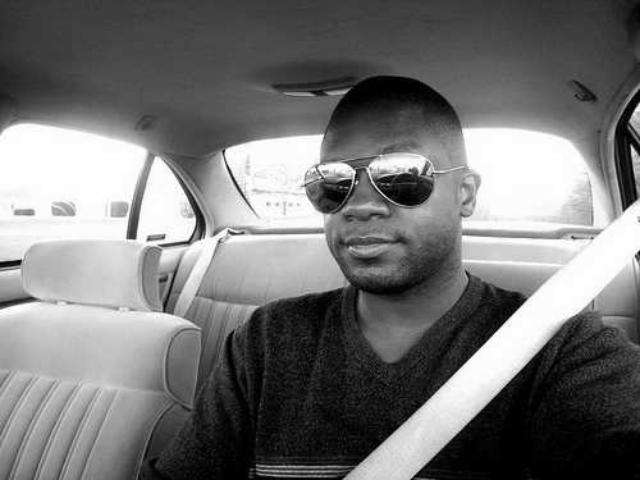Seatbelt: (336, 194, 640, 480)
